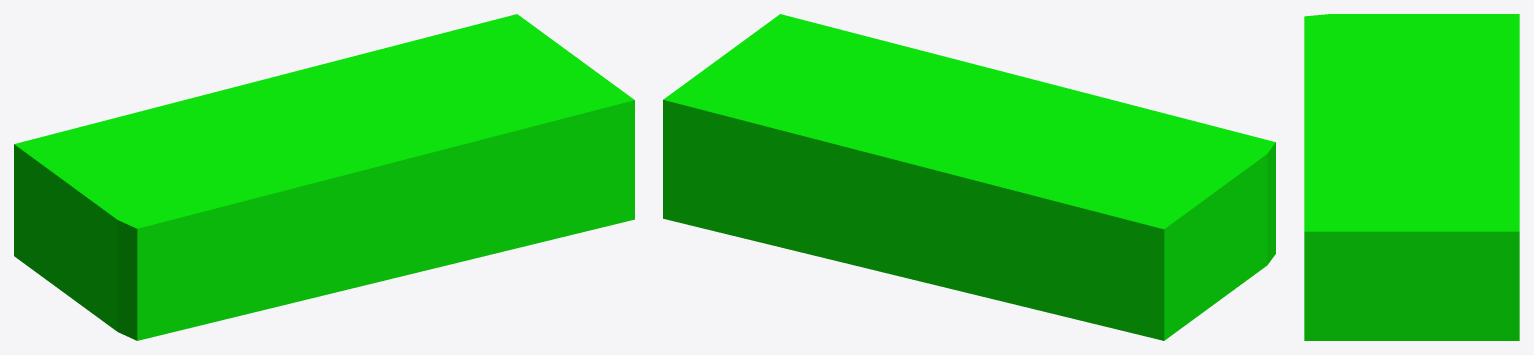
File: 05_MASSING_SITE.glb
3 renders of one model, left to right at view 1: azimuth 30°, elevation 25°; view 2: azimuth 150°, elevation 25°; view 3: azimuth 270°, elevation 25°, orthographic. The views are drawn at different scales.
Size of the model in its own units: 0.2485 by 0.0564 by 0.1007.
